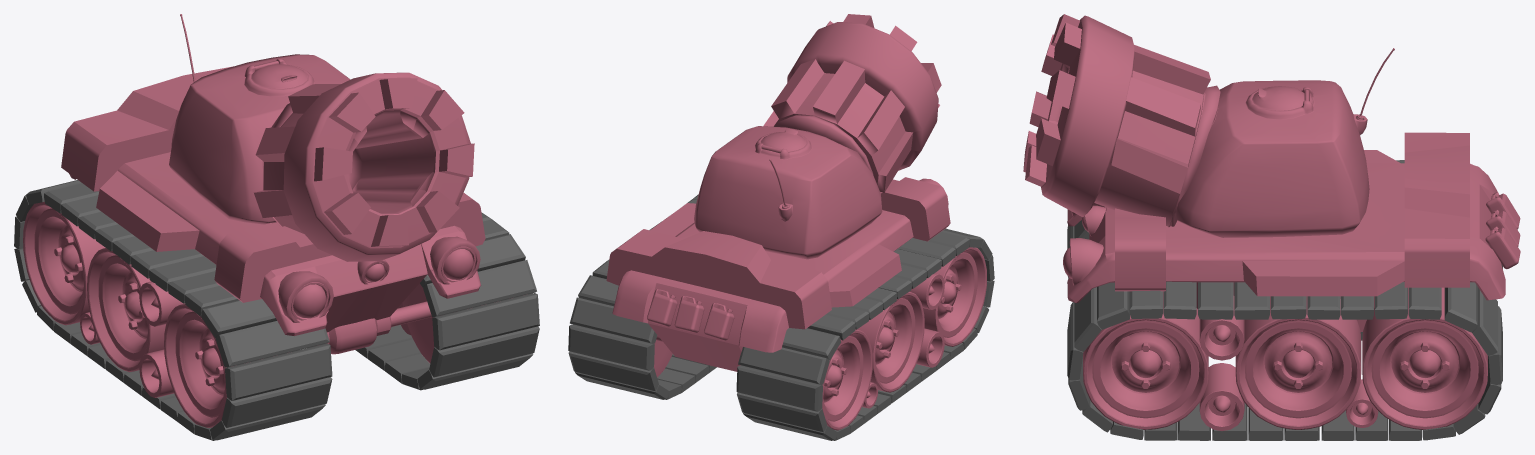
File: tank5.glb
3 views of the same model, side by side, from view 1: azimuth 30°, elevation 25°; view 2: azimuth 150°, elevation 25°; view 3: azimuth 270°, elevation 25° (orthographic). The views are drawn at different scales.
Parts seen in each view (by area): view 1: TankHeavyChassis, TankHeavyTurret, TankHeavyTracksRight, TankHeavyTracksLeft; view 2: TankHeavyChassis, TankHeavyTurret, TankHeavyTracksRight, TankHeavyTracksLeft; view 3: TankHeavyChassis, TankHeavyTurret, TankHeavyTracksLeft.
Boxes of the visible parts, x1=… form: TankHeavyChassis: x1=23, y1=66, x2=485, y2=427; TankHeavyTurret: x1=169, y1=14, x2=474, y2=261; TankHeavyTracksRight: x1=14, y1=180, x2=332, y2=440; TankHeavyTracksLeft: x1=355, y1=212, x2=539, y2=390; TankHeavyChassis: x1=606, y1=177, x2=986, y2=430; TankHeavyTurret: x1=694, y1=14, x2=941, y2=259; TankHeavyTracksRight: x1=736, y1=228, x2=994, y2=440; TankHeavyTracksLeft: x1=568, y1=194, x2=716, y2=399; TankHeavyChassis: x1=1063, y1=132, x2=1520, y2=430; TankHeavyTurret: x1=1023, y1=14, x2=1394, y2=237; TankHeavyTracksLeft: x1=1067, y1=281, x2=1502, y2=440.
Size of the model in its own units: 3.59 by 3.8 by 4.96.
